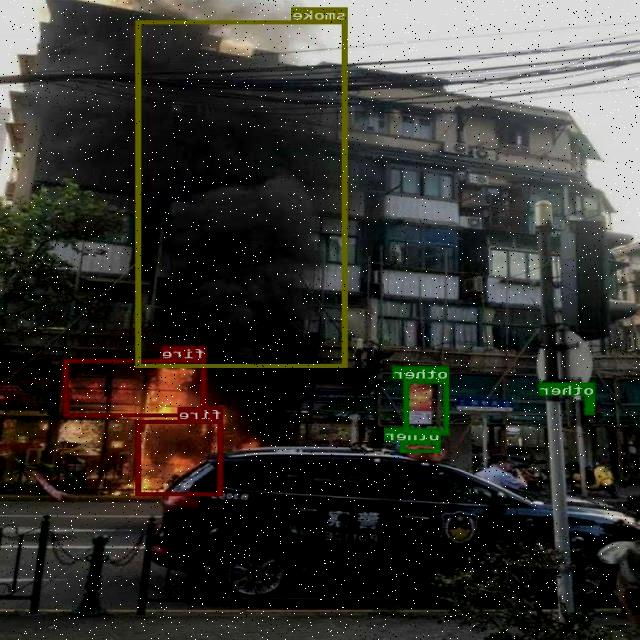fire: (64, 358, 207, 416), (136, 420, 225, 496)
smoke: (136, 20, 348, 367)
